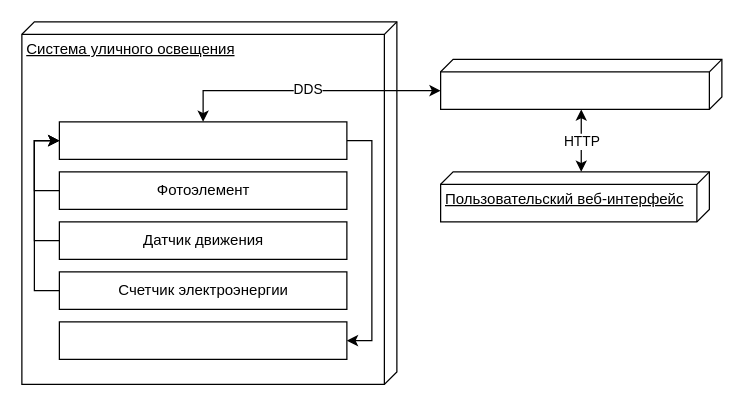
Image size: 744x406. Some labels were removed from this diagram. The centre of each missing label's shape, as x and y in pixels:
"Контроллер" belongs at (202,140).
"Облако" belongs at (580,83).
"Светодиоды" belongs at (202,340).
